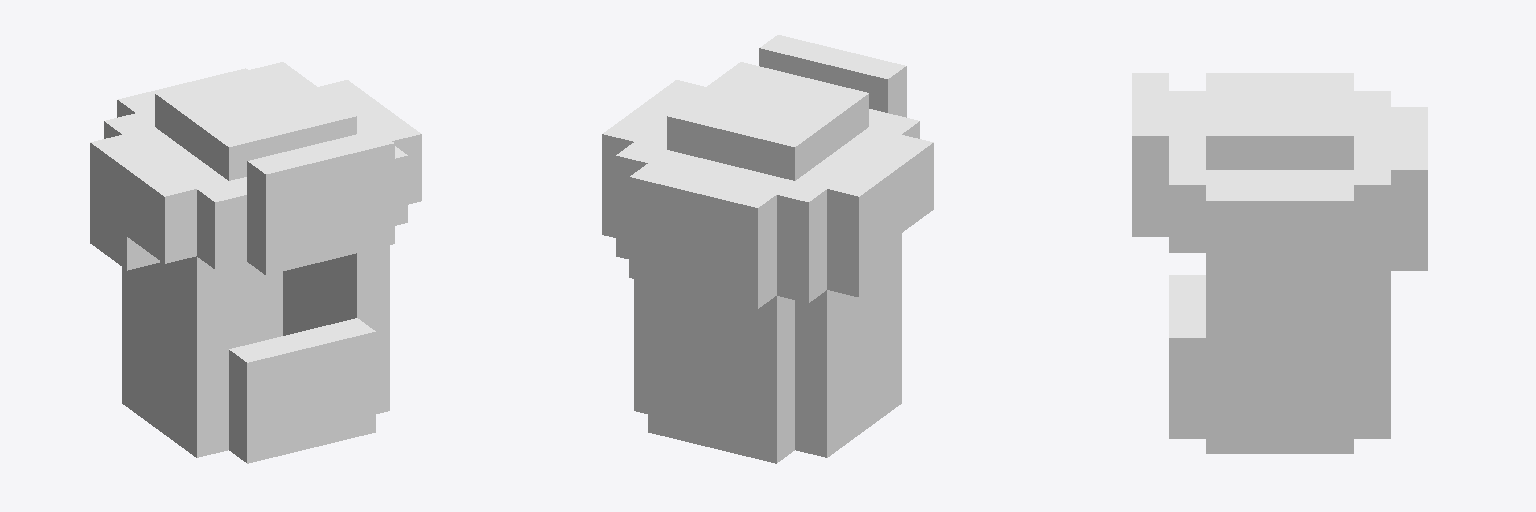
Rendered from char-173-helm_lgt_3e_sh.obj.
3 views of the same model, side by side, from view 1: azimuth 30°, elevation 25°; view 2: azimuth 150°, elevation 25°; view 3: azimuth 270°, elevation 25° (orthographic).
Visible parts, largest first — view 1: helm_lgt_3e_sh; view 2: helm_lgt_3e_sh; view 3: helm_lgt_3e_sh.
Boxes of the visible parts, x1=… form: helm_lgt_3e_sh: x1=90, y1=62, x2=421, y2=463; helm_lgt_3e_sh: x1=602, y1=35, x2=933, y2=463; helm_lgt_3e_sh: x1=1132, y1=73, x2=1427, y2=453.
Bounding box in the file's own units: 0.8 × 0.9 × 0.8.